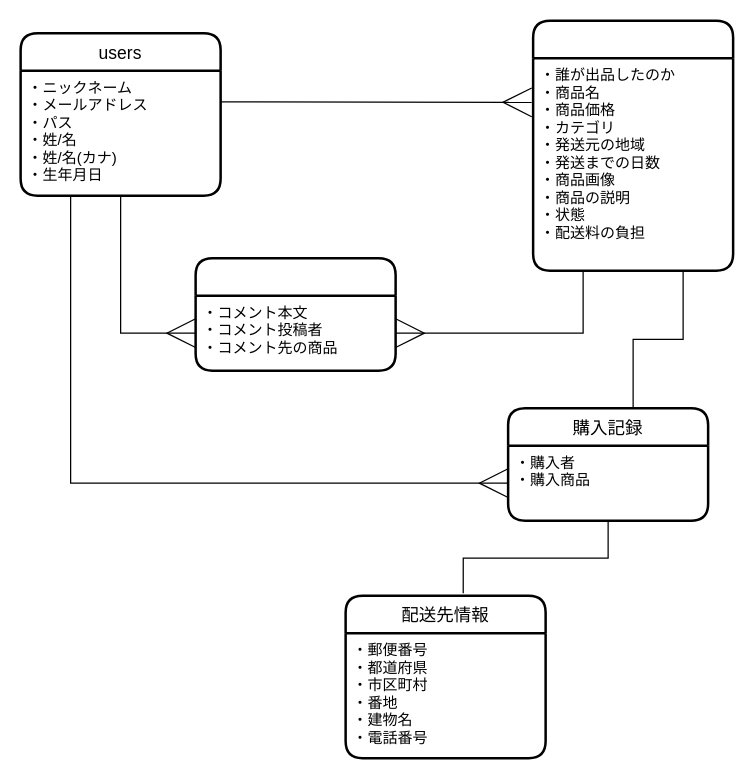
This 754x779 diagram has some shape labels left out. Each missing label, with the box of its shape:
comments: (194, 256, 396, 371)
items: (531, 19, 734, 271)
